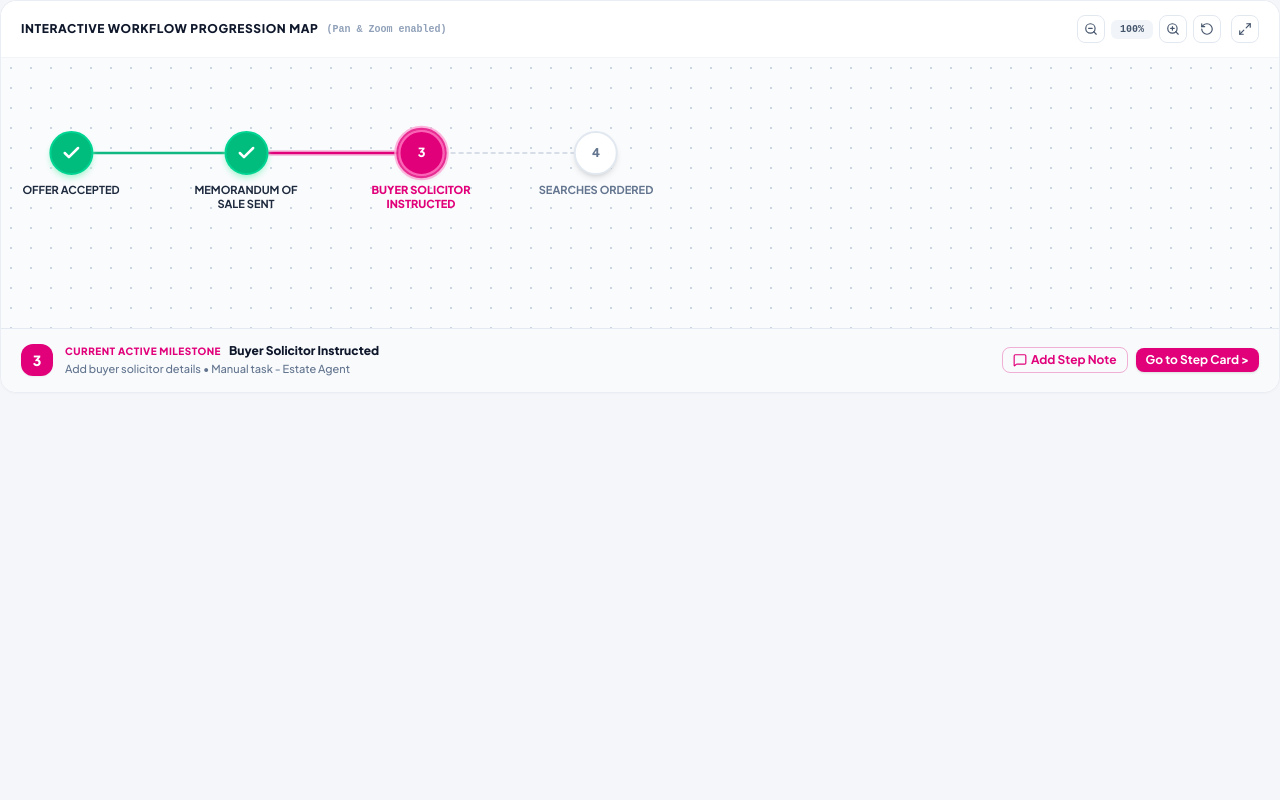
SalesProgressionTracker › renders Add Step Note in the Current Active Milestone callout bar and opens modal
Click the button "Add Step Note". click: (1065, 360)
box: 1002,347 -> 1128,373
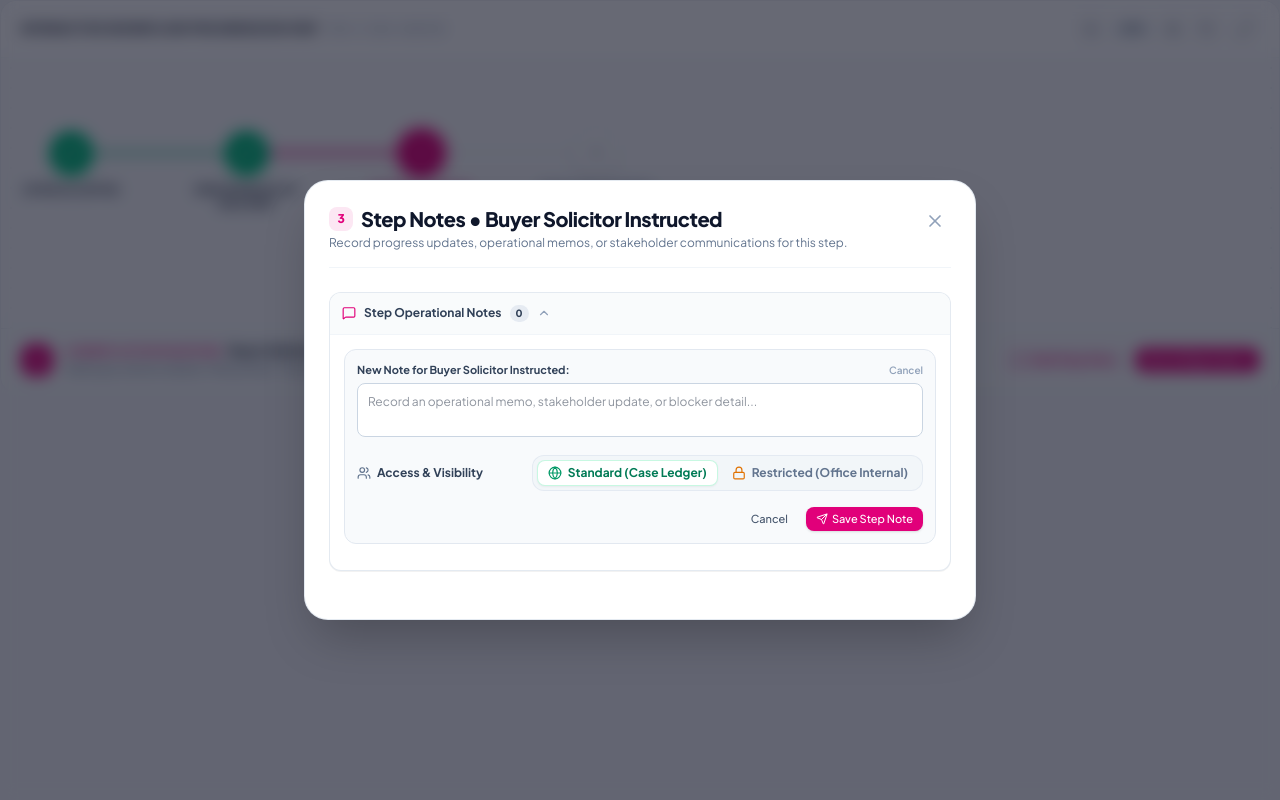
Expected: the text "Step Notes • Buyer Solicitor Instructed" is shown, 361,205 -> 722,233
